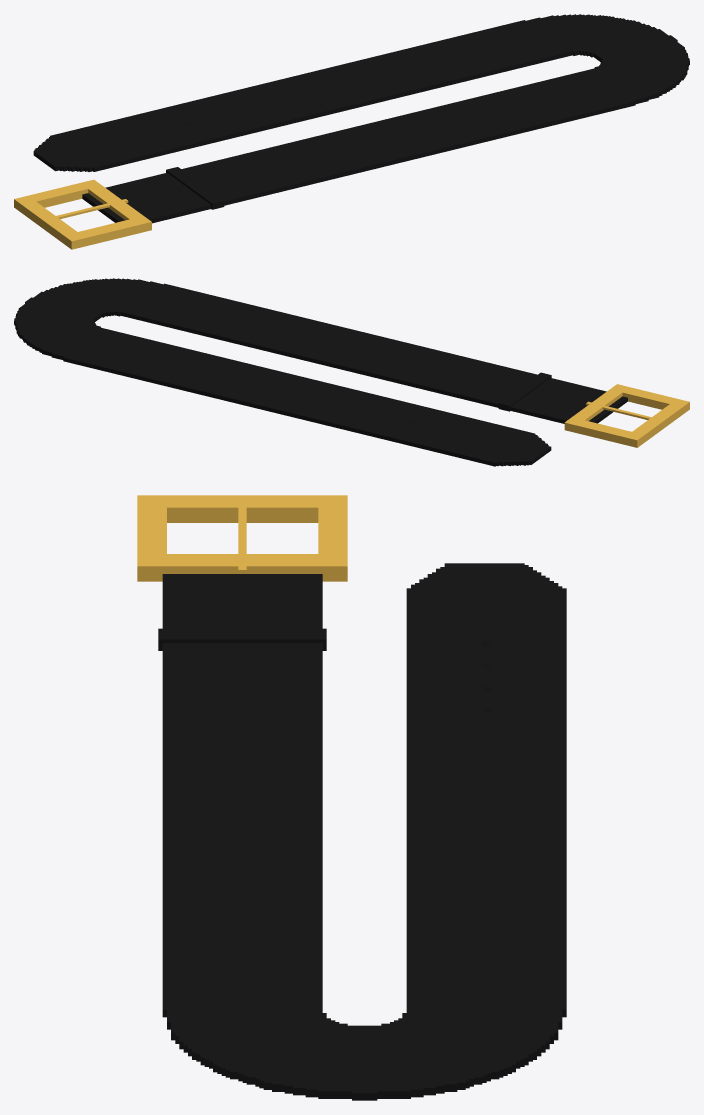
The model's file is santa_belt.glb.
3 renders of one model, top to bottom at view 1: azimuth 30°, elevation 25°; view 2: azimuth 150°, elevation 25°; view 3: azimuth 270°, elevation 25°, orthographic. The views are drawn at different scales.
Parts seen in each view (by area): view 1: santa_belt:compound; view 2: santa_belt:compound; view 3: santa_belt:compound.
Boxes of the visible parts, box(x1,y1,x2,y2) form: santa_belt:compound: box(14, 14, 689, 249); santa_belt:compound: box(14, 278, 689, 466); santa_belt:compound: box(137, 495, 566, 1100).
Bounding box in the file's own units: 0.664 × 0.008 × 0.204.
